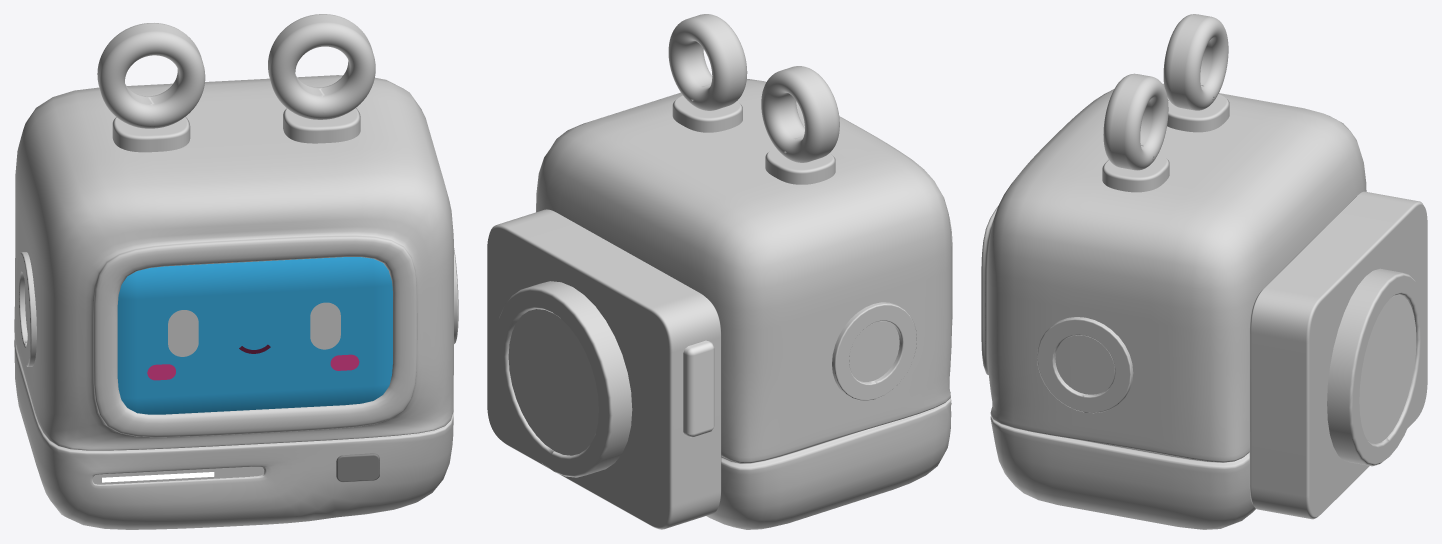
Rendered from cabeza.glb.
The picture shows the model from 3 angles, left to right: view 1: azimuth 30°, elevation 25°; view 2: azimuth 150°, elevation 25°; view 3: azimuth 270°, elevation 25°; orthographic projection. The views are drawn at different scales.
Visible parts, largest first — view 1: body shape, face.001, Cylinder.004, Cylinder.003, Rectangle 8.001, Rectangle 8, Cylinder 3, Rectangle 4.001, Ojo2, Ojo1, Rectangle 5.001, Rectangle 6.001; view 2: body shape, Rectangle 7, Cylinder, Ellipse.001, Cylinder.003, Cylinder.004, Cylinder 3, Cube 5, Rectangle 8.001, Rectangle 8; view 3: body shape, Rectangle 7, Cylinder, Ellipse.001, Cylinder.003, Cylinder.004, Cylinder 3.001, Rectangle 8, Rectangle 8.001.
Boxes of the visible parts, x1,y1,x2,y2 form: body shape: [14, 75, 453, 529]; face.001: [117, 257, 392, 414]; Cylinder.004: [97, 23, 205, 128]; Cylinder.003: [268, 14, 375, 119]; Rectangle 8.001: [112, 117, 190, 152]; Rectangle 8: [283, 108, 360, 143]; Cylinder 3: [16, 252, 36, 366]; Rectangle 4.001: [92, 466, 263, 484]; Ojo2: [310, 302, 340, 349]; Ojo1: [168, 310, 198, 356]; Rectangle 5.001: [336, 453, 379, 482]; Rectangle 6.001: [102, 472, 214, 482]; body shape: [536, 79, 952, 529]; Rectangle 7: [487, 209, 721, 529]; Cylinder: [494, 281, 632, 477]; Ellipse.001: [508, 309, 598, 455]; Cylinder.003: [668, 14, 747, 110]; Cylinder.004: [761, 66, 839, 162]; Cylinder 3: [832, 302, 916, 400]; Cube 5: [683, 340, 714, 437]; Rectangle 8.001: [765, 147, 835, 184]; Rectangle 8: [672, 95, 742, 132]; body shape: [981, 83, 1366, 529]; Rectangle 7: [1249, 191, 1427, 519]; Cylinder: [1327, 268, 1427, 466]; Ellipse.001: [1359, 295, 1416, 443]; Cylinder.003: [1103, 73, 1168, 170]; Cylinder.004: [1163, 14, 1228, 110]; Cylinder 3.001: [1037, 317, 1133, 413]; Rectangle 8: [1102, 154, 1169, 192]; Rectangle 8.001: [1167, 94, 1229, 132].
Size of the model in its own units: 3.91 by 4.09 by 4.03.
